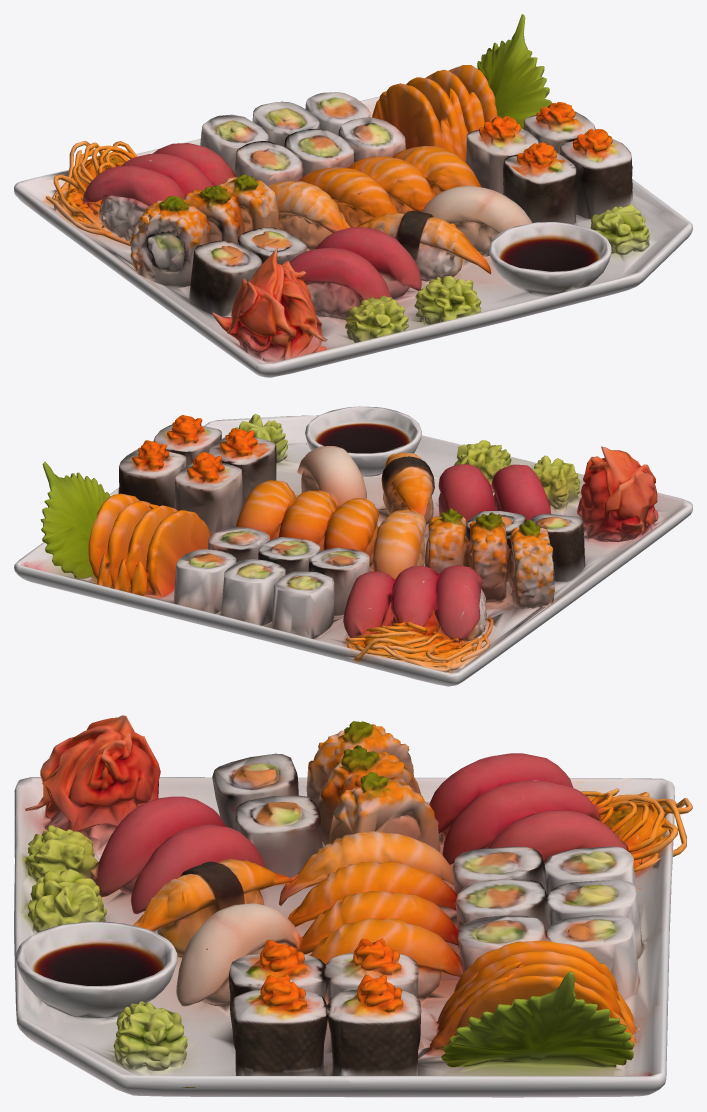
Rendered from combinados-35.glb.
3 renders of one model, top to bottom at view 1: azimuth 30°, elevation 25°; view 2: azimuth 150°, elevation 25°; view 3: azimuth 270°, elevation 25°, orthographic. The views are drawn at different scales.
Parts seen in each view (by area): view 1: world; view 2: world; view 3: world.
Part boxes in pixels (<box>): world: <box>14,14,692,377</box>; world: <box>14,406,692,686</box>; world: <box>14,715,692,1097</box>.
Bounding box in the file's own units: 0.28 × 0.0614 × 0.2647.
Materials: 1 (1 with a texture image).
